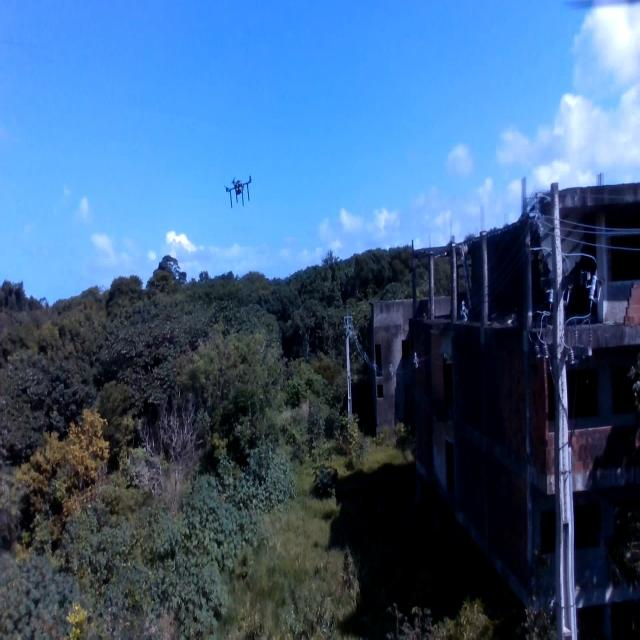-uav-: (214, 163, 259, 218)
